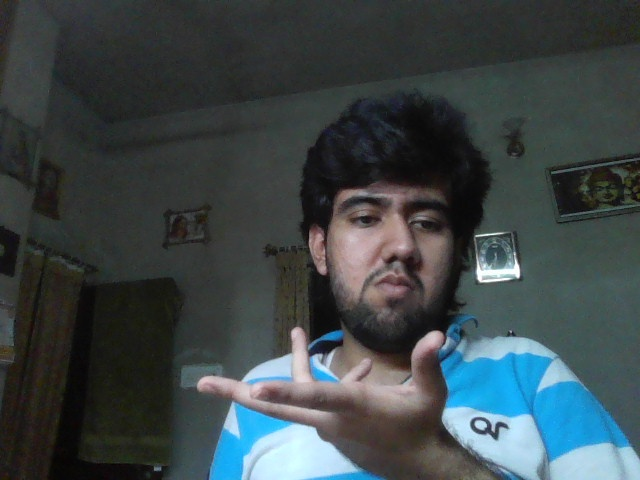What: (197, 325, 448, 459)
